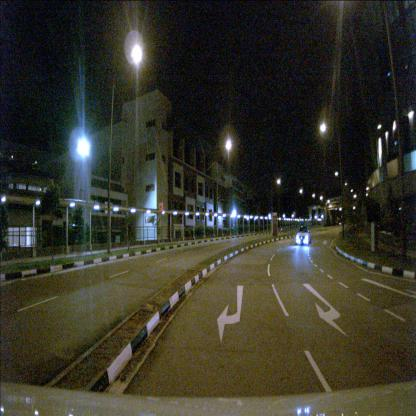vehicle-car: (296, 226, 311, 245)
